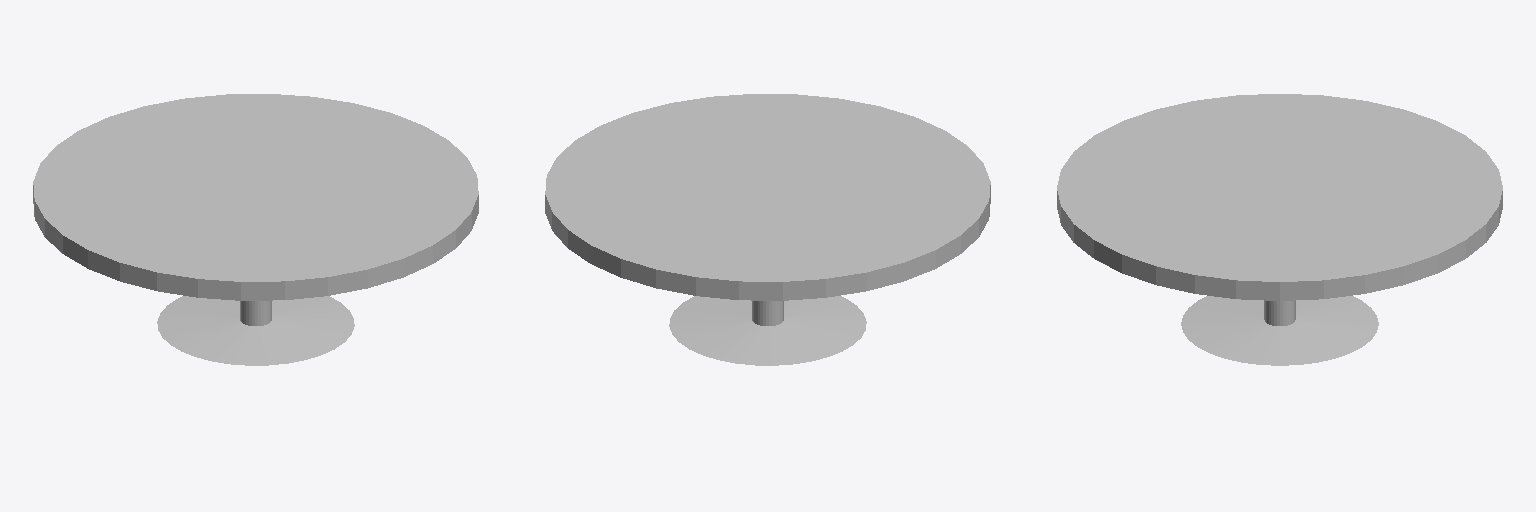
Rendered from TableRound.obj.
The picture shows the model from 3 angles: view 1: azimuth 30°, elevation 25°; view 2: azimuth 150°, elevation 25°; view 3: azimuth 270°, elevation 25°; orthographic projection.
Parts seen in each view (by area): view 1: Cylinder; view 2: Cylinder; view 3: Cylinder.
Boxes of the visible parts, x1,y1,x2,y2 form: Cylinder: [33, 94, 478, 365]; Cylinder: [545, 94, 990, 365]; Cylinder: [1057, 94, 1502, 365].
Bounding box in the file's own units: 2 × 0.6731 × 2.